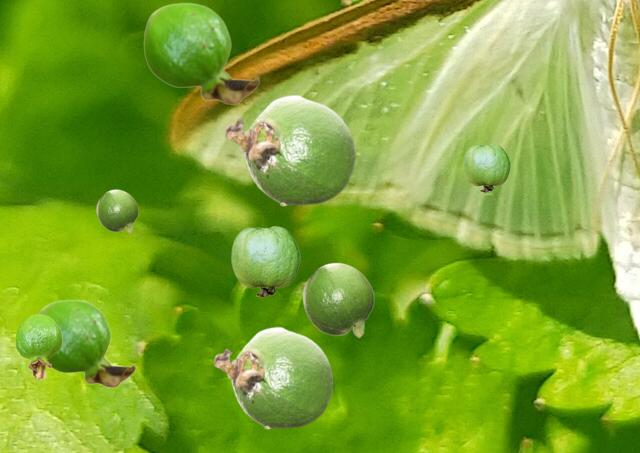guava: (224, 94, 355, 205), (213, 326, 333, 428), (143, 2, 259, 104), (38, 299, 135, 387), (302, 262, 373, 337), (231, 226, 299, 296), (15, 314, 61, 379), (463, 144, 509, 191), (96, 189, 137, 232)
